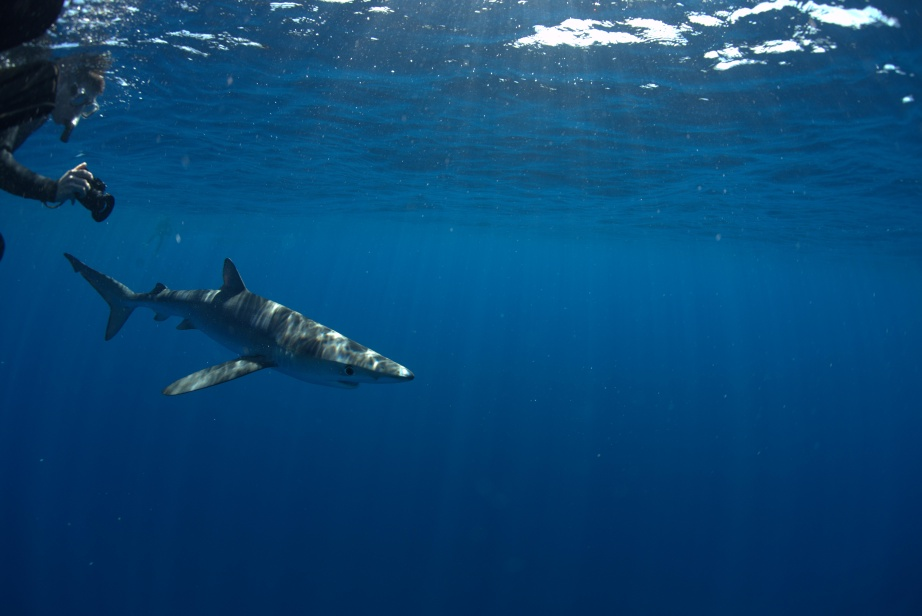Azul: (51, 242, 449, 439)
